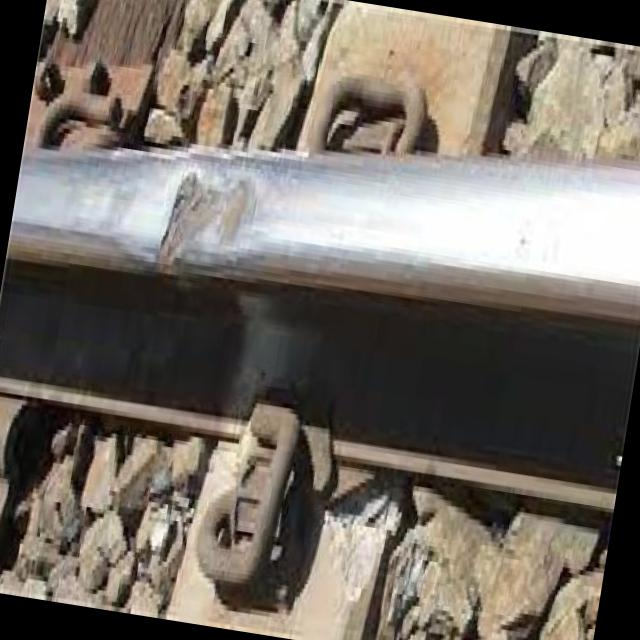defective: (69, 53, 318, 380)
